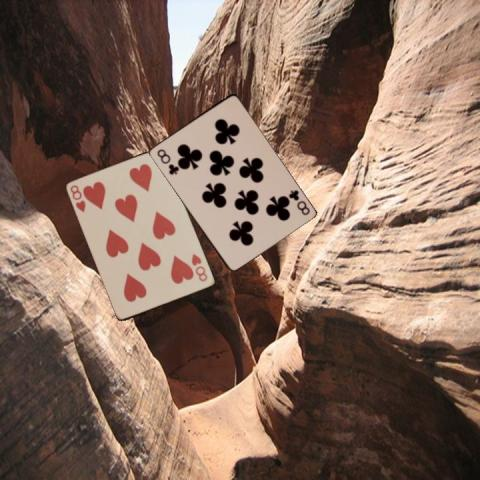8c: (154, 146, 180, 176), (285, 186, 311, 216)
8h: (188, 250, 208, 282), (68, 182, 88, 214)
